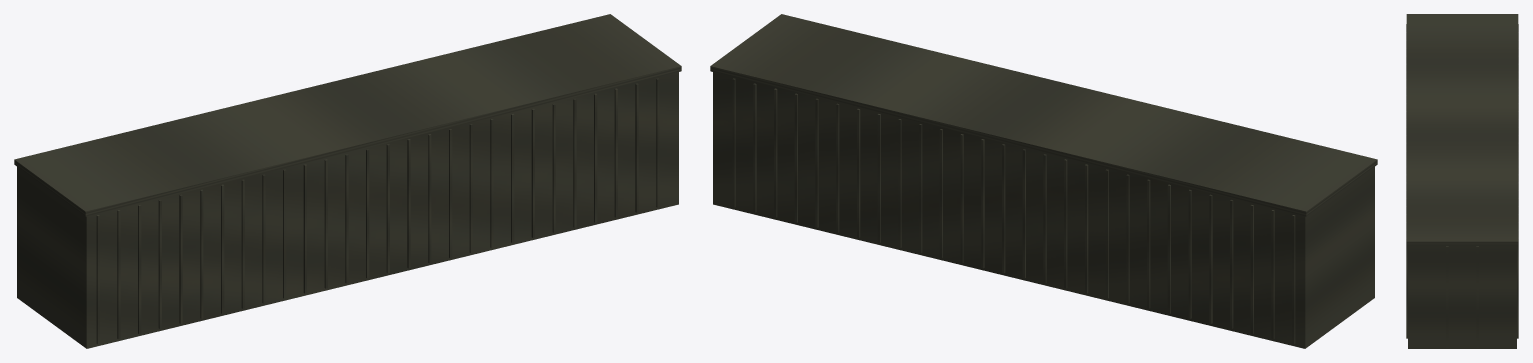
The model's file is prop_container_40ft.glb.
The picture shows the model from 3 angles, left to right: view 1: azimuth 30°, elevation 25°; view 2: azimuth 150°, elevation 25°; view 3: azimuth 270°, elevation 25°; orthographic projection. The views are drawn at different scales.
Parts seen in each view (by area): view 1: prop_container_40ft; view 2: prop_container_40ft; view 3: prop_container_40ft.
Part boxes in pixels (bbox=[...]): prop_container_40ft: bbox=[14, 14, 681, 348]; prop_container_40ft: bbox=[710, 14, 1377, 348]; prop_container_40ft: bbox=[1406, 14, 1518, 348].
Size of the model in its own units: 12.1 by 2.68 by 2.53.
Materials: 1 (1 with a texture image).
